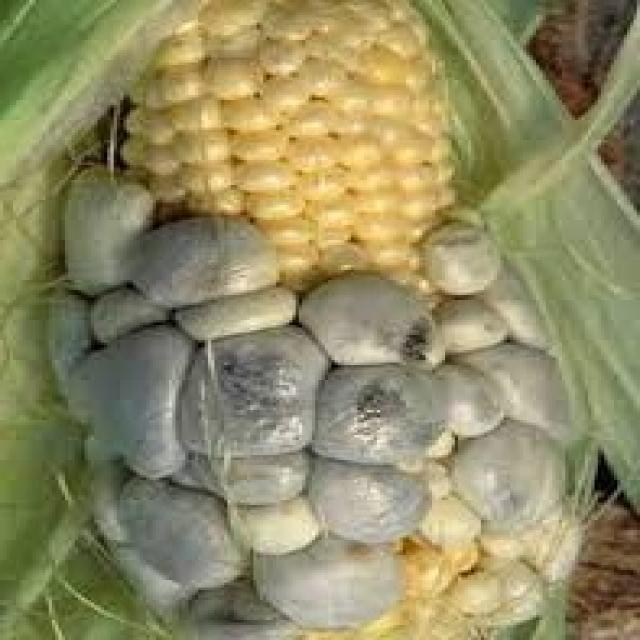Leaf_Scald: (10, 9, 640, 640)
